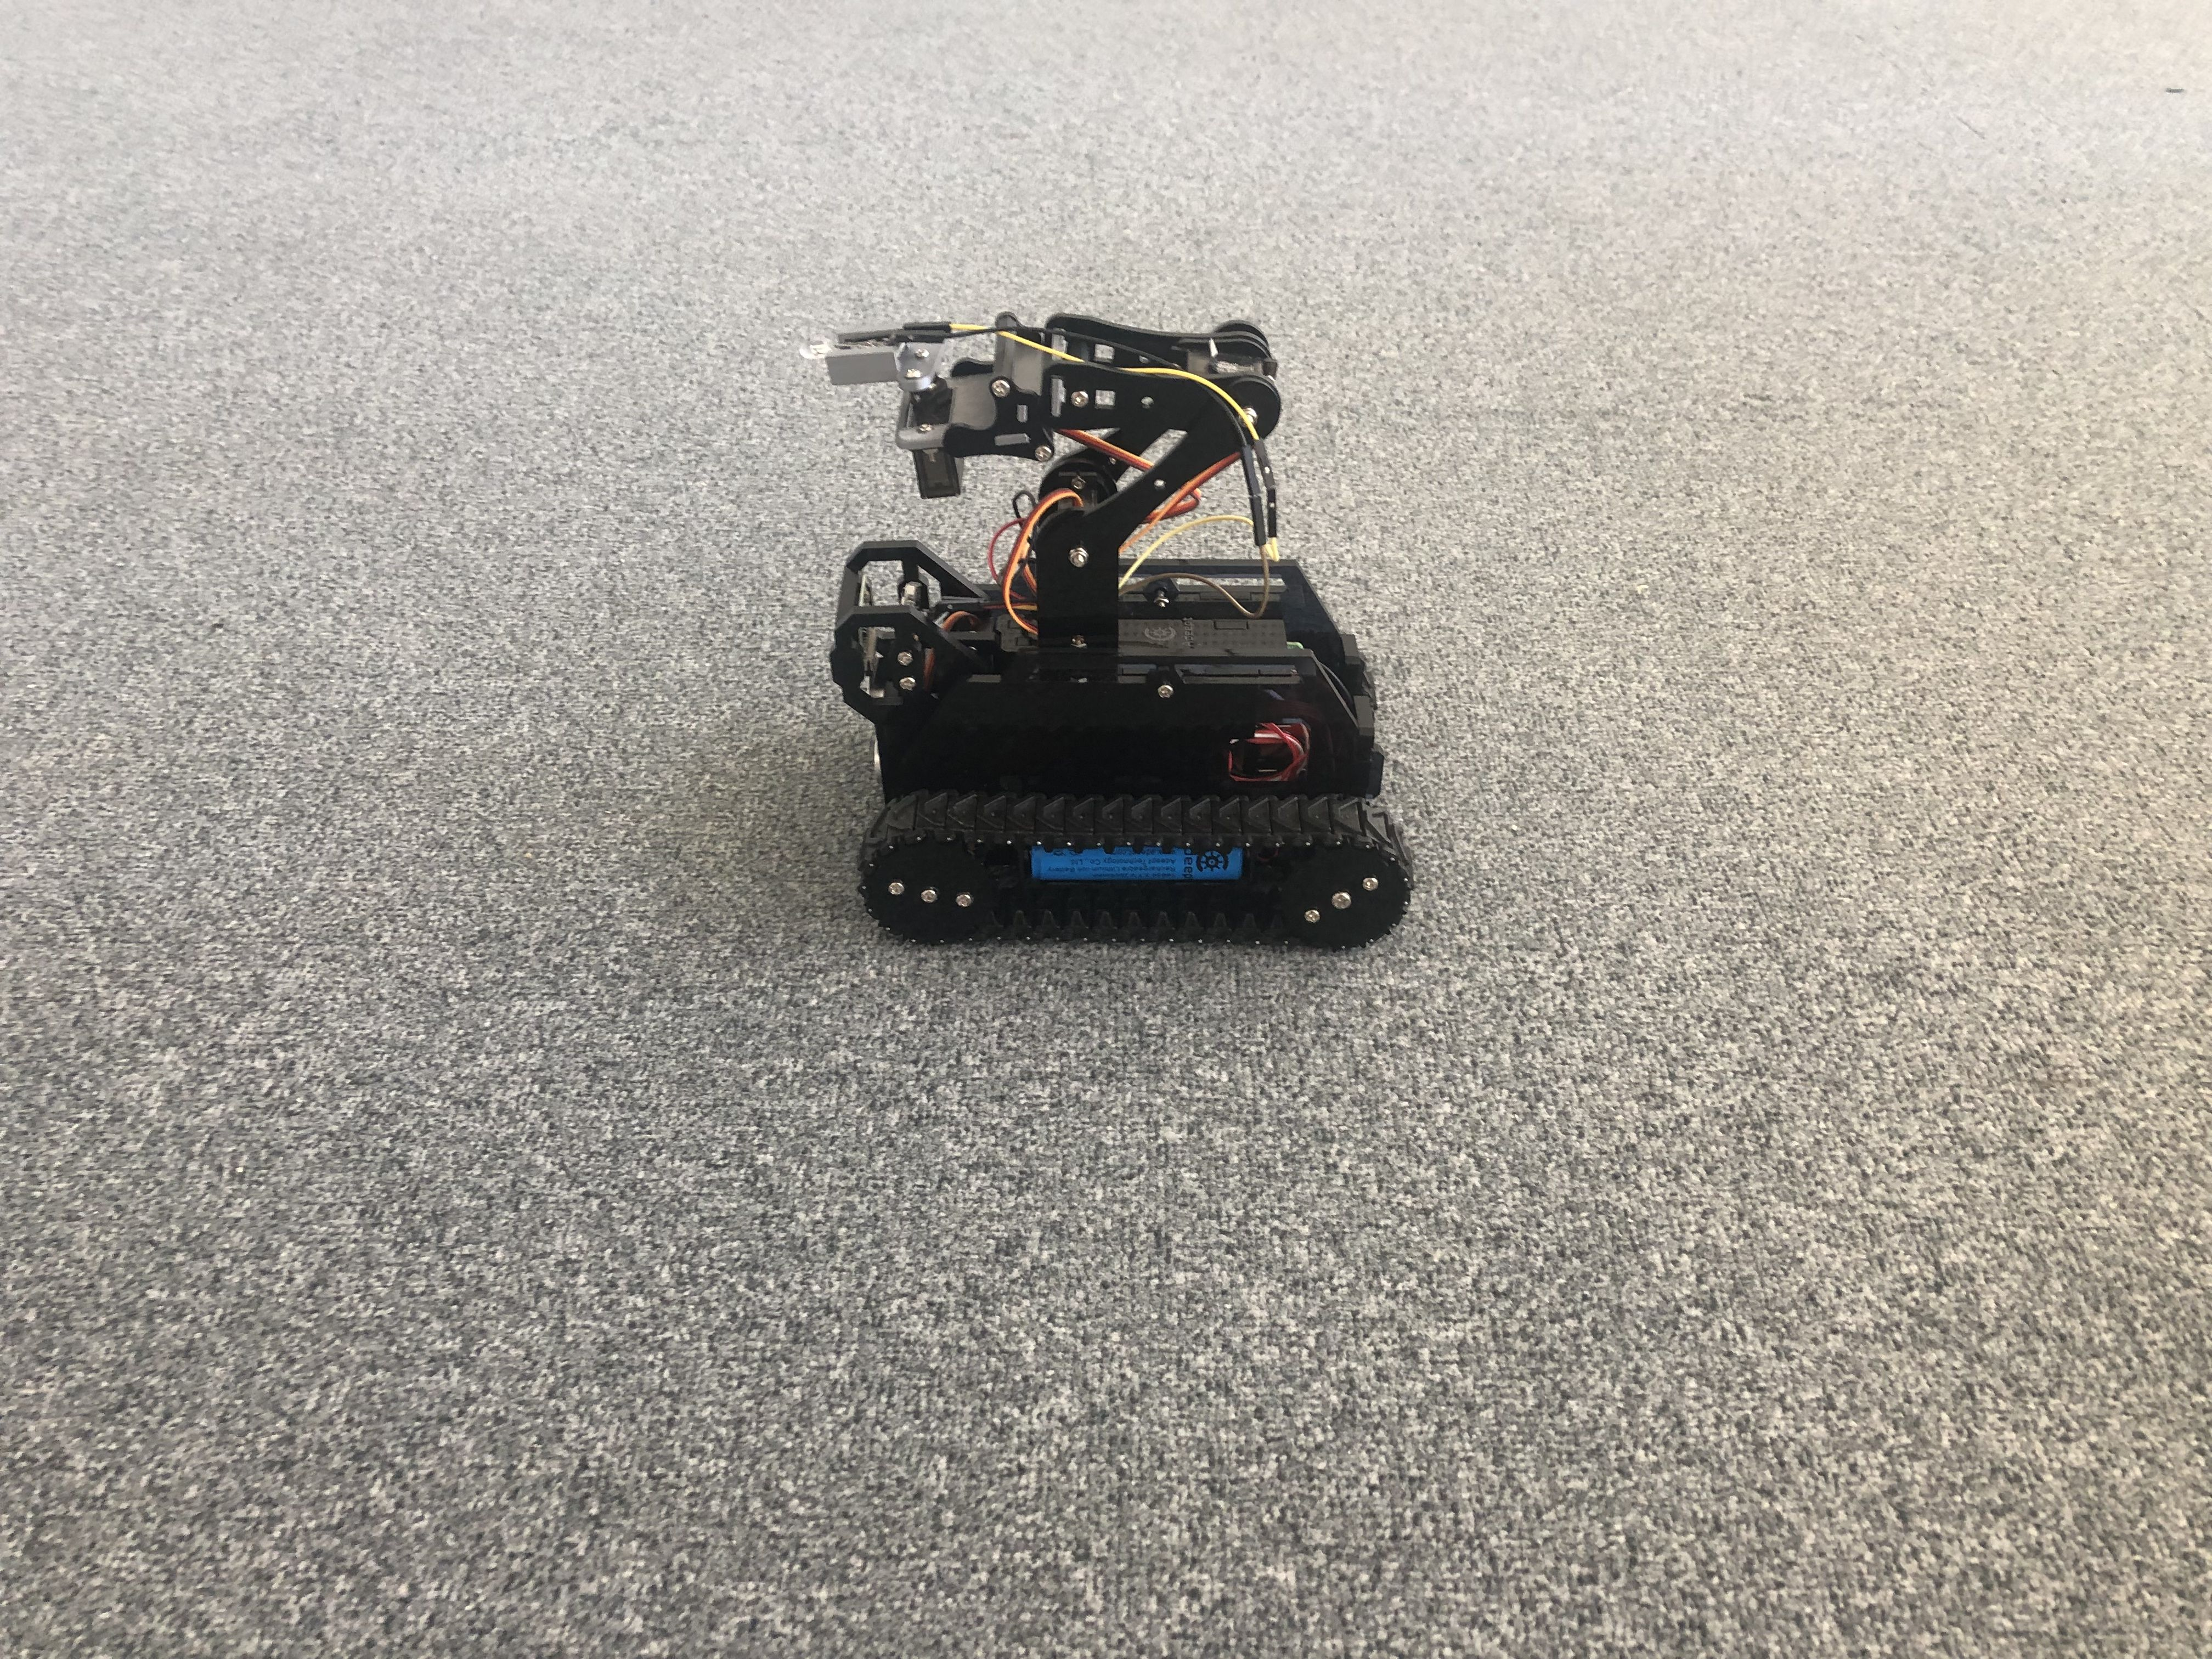rasptank: (801, 281, 1421, 958)
